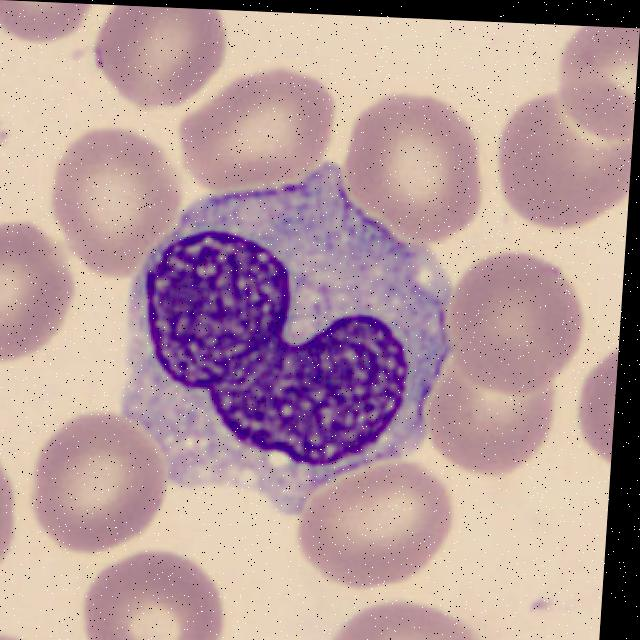monocyte: (105, 158, 449, 519)
rbc: (333, 88, 485, 253), (27, 403, 177, 568), (490, 80, 636, 240), (44, 127, 180, 281), (453, 252, 585, 401), (417, 345, 559, 483), (300, 467, 454, 594), (179, 76, 336, 196), (86, 4, 229, 119), (63, 548, 241, 640), (0, 212, 94, 374), (546, 25, 640, 151), (318, 593, 505, 640), (572, 343, 619, 486), (0, 421, 26, 598), (0, 0, 86, 52)
